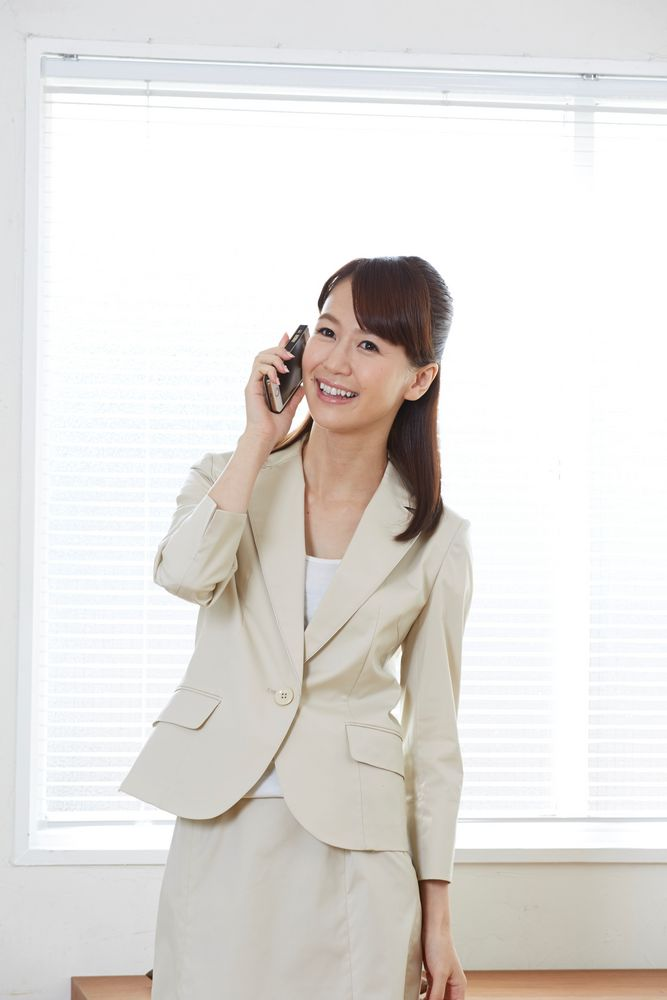phone: (245, 323, 316, 427)
talk: (239, 314, 389, 449)
